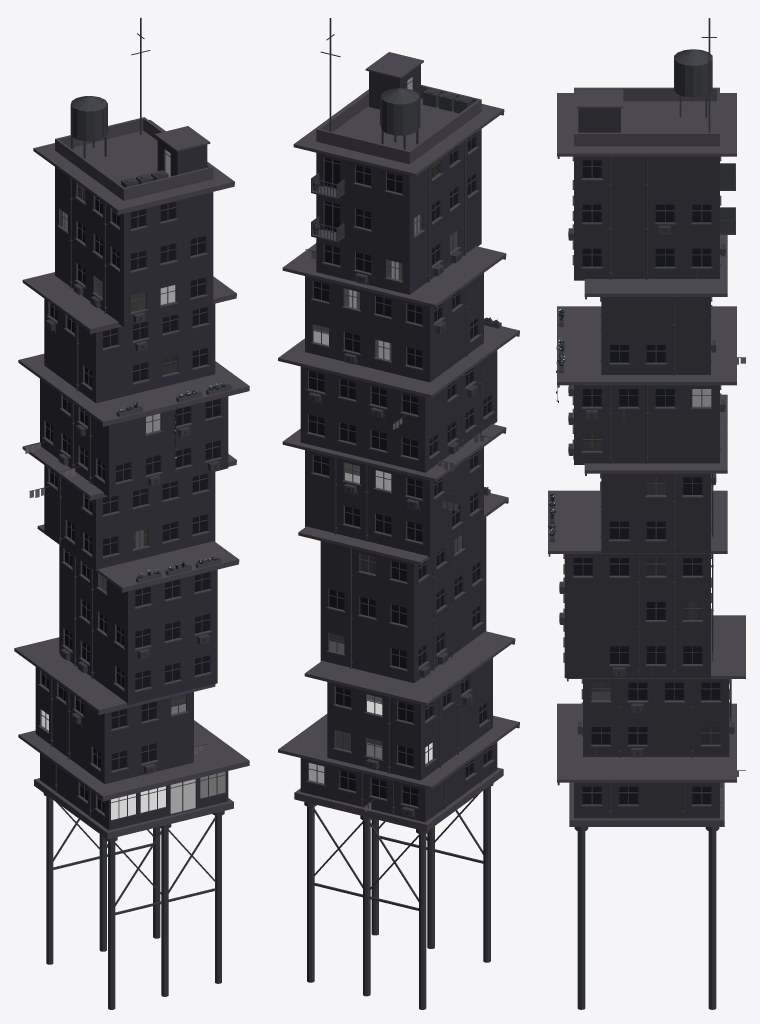
The model's file is mooring_stack_d.glb.
3 views of the same model, side by side, from view 1: azimuth 30°, elevation 25°; view 2: azimuth 150°, elevation 25°; view 3: azimuth 270°, elevation 25° (orthographic). The views are drawn at different scales.
Parts seen in each view (by area): view 1: mooring_stack_d; view 2: mooring_stack_d; view 3: mooring_stack_d.
Boxes of the visible parts, bbox=[...] form: mooring_stack_d: bbox=[14, 14, 249, 1009]; mooring_stack_d: bbox=[278, 14, 519, 1009]; mooring_stack_d: bbox=[548, 14, 745, 1009].
Size of the model in its own units: 13 by 71.37 by 13.
Materials: 11 (3 with a texture image).
